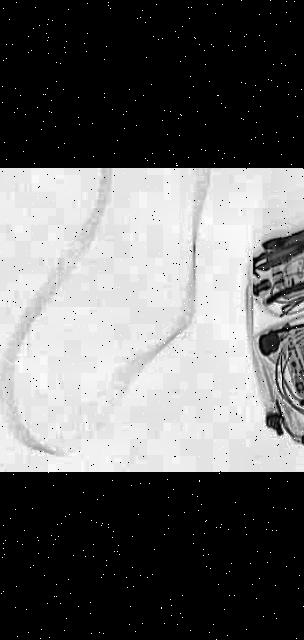Pliers: (220, 212, 304, 305)
